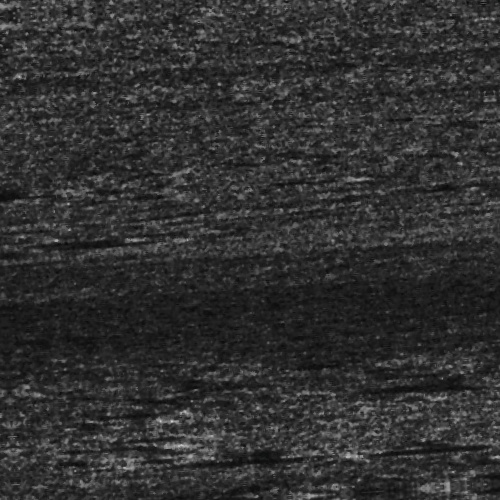object: (278, 452, 371, 463), (467, 390, 500, 403), (320, 181, 361, 186), (114, 227, 145, 230), (488, 457, 500, 462)
shadow: (185, 452, 324, 463), (415, 390, 500, 403), (390, 457, 500, 462), (249, 181, 340, 186), (30, 227, 129, 230)
